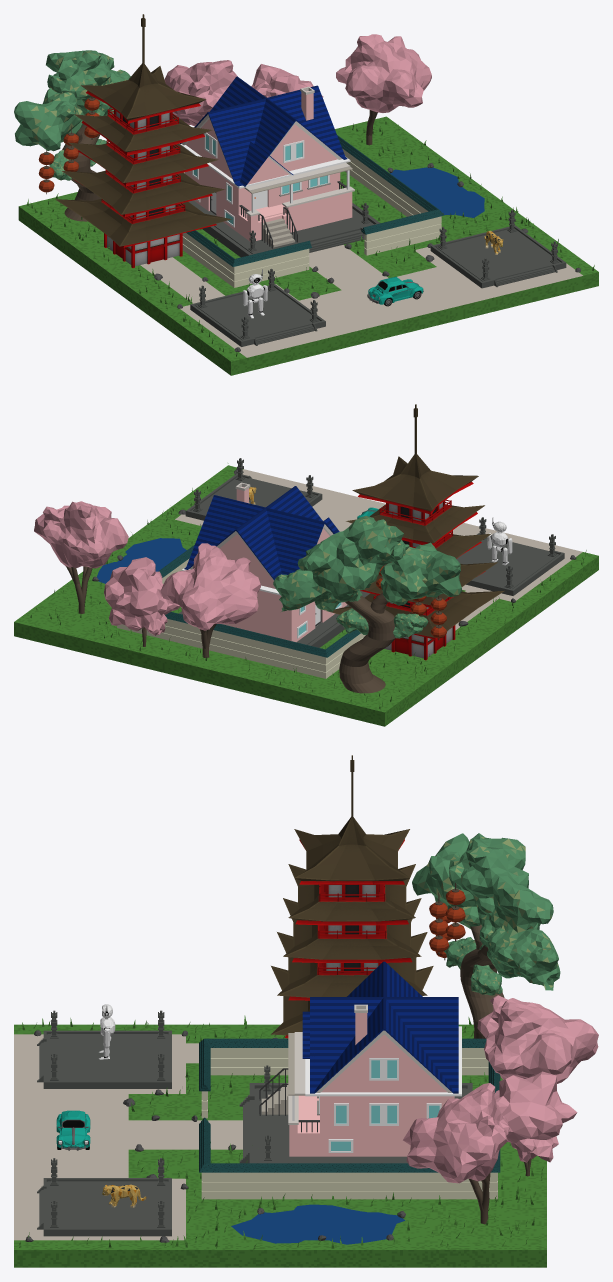
3 views of the same model, one above another, from view 1: azimuth 30°, elevation 25°; view 2: azimuth 150°, elevation 25°; view 3: azimuth 270°, elevation 25° (orthographic). The views are drawn at different scales.
Parts seen in each view (by area): view 1: Cube.005, Cube.313, VEHICLES_VOLKSWAGEN, OBJRANDOM_PLATZEEBOT; view 2: Cube.005, Cube.313, OBJRANDOM_PLATZEEBOT; view 3: Cube.005, Cube.313, VEHICLES_VOLKSWAGEN.
Part boxes in pixels (x1,y1,x2,y2): Cube.005: [14, 14, 598, 375]; Cube.313: [179, 76, 354, 248]; VEHICLES_VOLKSWAGEN: [367, 276, 423, 306]; OBJRANDOM_PLATZEEBOT: [243, 269, 267, 318]; Cube.005: [14, 404, 598, 726]; Cube.313: [181, 482, 347, 642]; OBJRANDOM_PLATZEEBOT: [487, 517, 512, 565]; Cube.005: [14, 755, 598, 1267]; Cube.313: [259, 961, 461, 1156]; VEHICLES_VOLKSWAGEN: [56, 1110, 90, 1150].
Bounding box in the file's own units: 4528 × 2693 × 4389.
Materials: 41 (5 with a texture image).
